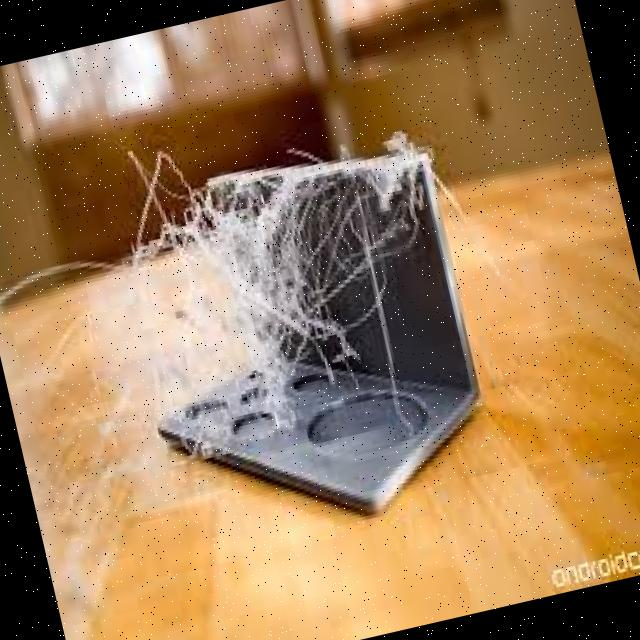spaghetti: (90, 119, 471, 468)
